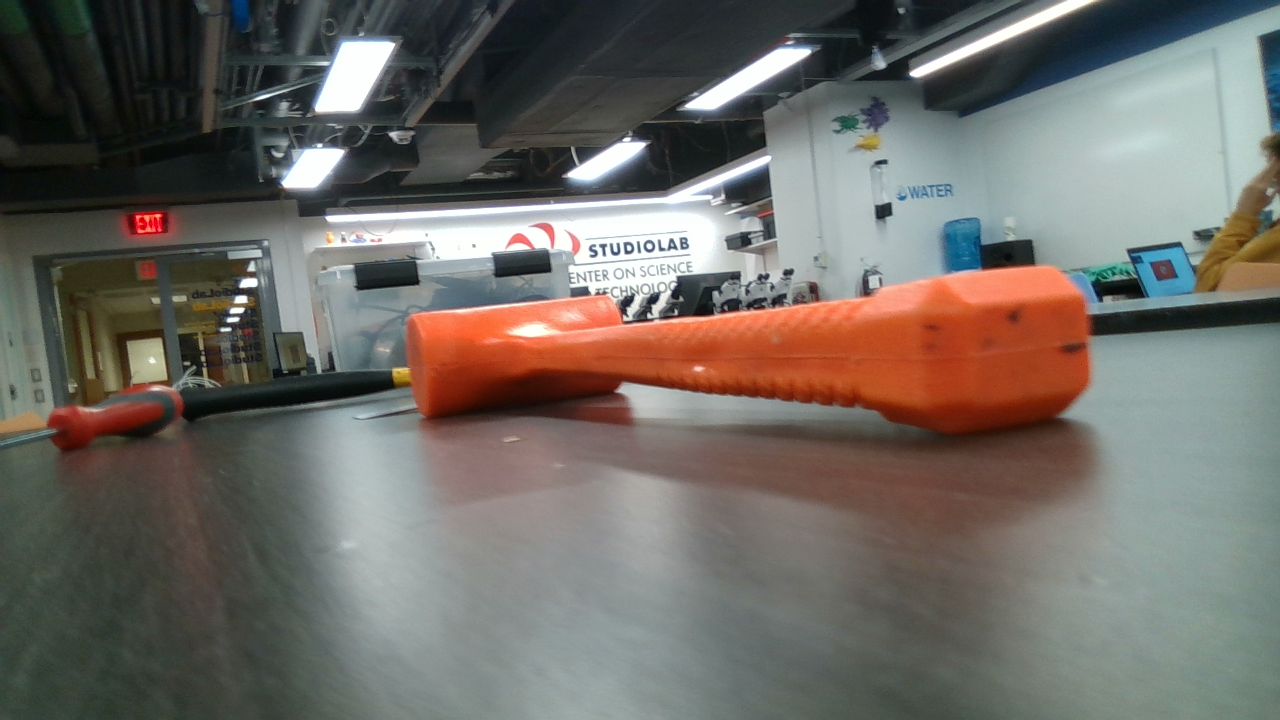Orange Hammer: (414, 265, 1087, 434)
